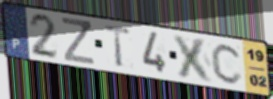2: (29, 13, 59, 61)
4: (141, 31, 169, 75)
C: (210, 41, 244, 85)
T: (103, 24, 133, 69)
X: (171, 33, 216, 85)
Z: (61, 16, 97, 67)
